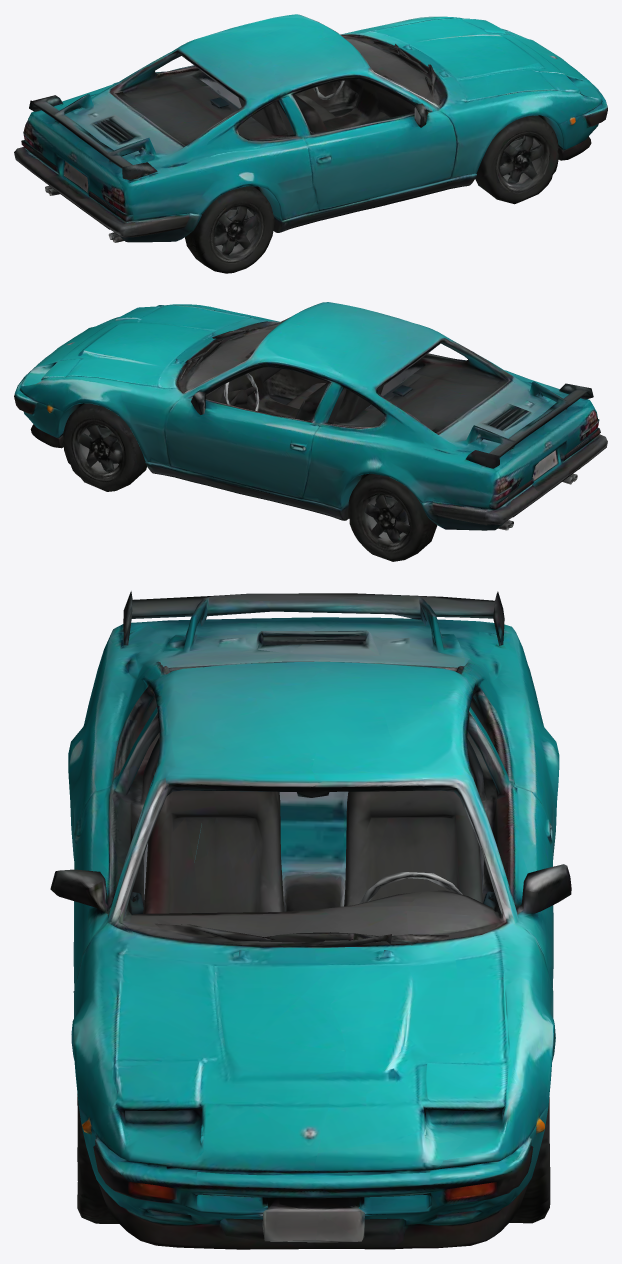
File: car_teal.glb
3 views of the same model, one above another, from view 1: azimuth 30°, elevation 25°; view 2: azimuth 150°, elevation 25°; view 3: azimuth 270°, elevation 25° (orthographic). The views are drawn at different scales.
Parts seen in each view (by area): view 1: tripo_node_510974b5-d559-4aca-9f73-a9ae40e75a52; view 2: tripo_node_510974b5-d559-4aca-9f73-a9ae40e75a52; view 3: tripo_node_510974b5-d559-4aca-9f73-a9ae40e75a52.
Part boxes in pixels (x1=…): tripo_node_510974b5-d559-4aca-9f73-a9ae40e75a52: x1=14, y1=14, x2=607, y2=273; tripo_node_510974b5-d559-4aca-9f73-a9ae40e75a52: x1=14, y1=302, x2=607, y2=561; tripo_node_510974b5-d559-4aca-9f73-a9ae40e75a52: x1=50, y1=591, x2=571, y2=1249.
Size of the model in its own units: 0.9792 by 0.2933 by 0.4338.
1 material, 1 textured.
